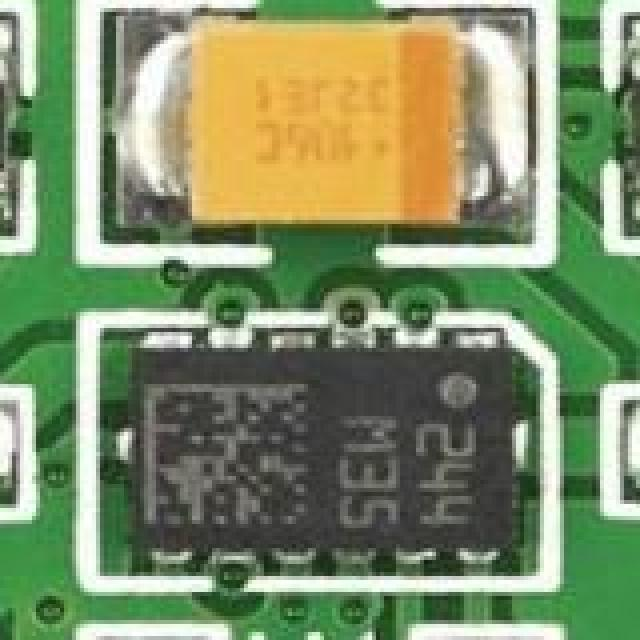IC: (120, 332, 532, 580)
LED: (0, 632, 28, 640)
capacitor: (144, 28, 504, 236), (0, 400, 12, 508)
resistor: (628, 48, 640, 212), (0, 40, 8, 220)
